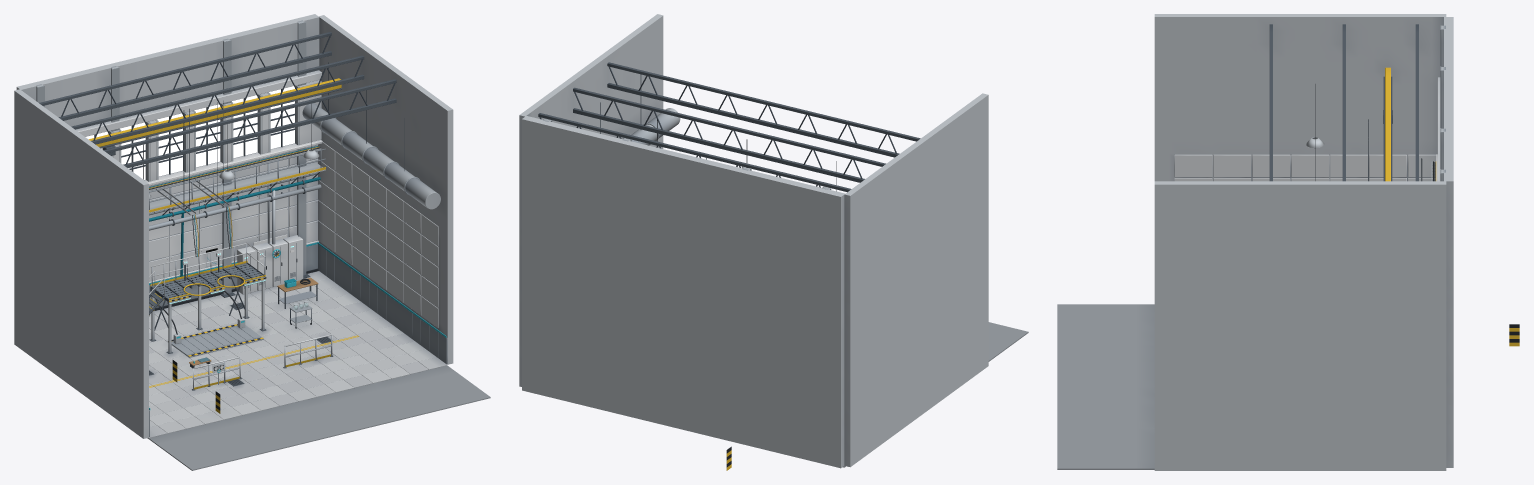
Rendered from vacuum-hall.glb.
The picture shows the model from 3 angles, left to right: view 1: azimuth 30°, elevation 25°; view 2: azimuth 150°, elevation 25°; view 3: azimuth 270°, elevation 25°; orthographic projection. The views are drawn at different scales.
Visible parts, largest first — view 1: set_wall_dk, set_wall, set_steel_dk, set_seam, set_floor_a, set_floor_b, set_floor_c, set_steel, set_galv, set_steel_lt, set_wains, set_win_glass (+9 smaller); view 2: set_wall_dk, set_steel_dk, set_seam, set_galv; view 3: set_wall_dk, set_seam, set_wall, set_steel_dk, set_hazard, set_steel_lt.
Part boxes in pixels (x1,y1,x2,y2): set_wall_dk: (14,14,453,438); set_wall: (75,70,438,328); set_steel_dk: (39,32,404,390); set_seam: (147,365,490,470); set_floor_a: (149,271,447,433); set_floor_b: (149,278,428,438); set_floor_c: (149,286,435,425); set_steel: (37,21,420,370); set_galv: (149,103,440,243); set_steel_lt: (36,20,321,384); set_wains: (149,244,447,436); set_win_glass: (85,86,294,179); set_wall_dk: (519,14,988,468); set_steel_dk: (538,62,920,192); set_seam: (843,322,1028,467); set_galv: (626,108,680,145); set_wall_dk: (1154,14,1453,470); set_seam: (1057,304,1154,469); set_wall: (1174,77,1440,181); set_steel_dk: (1269,24,1418,181); set_hazard: (1385,67,1519,346); set_steel_lt: (1306,25,1445,181).
Size of the model in its own units: 16.6 by 13.09 by 19.01.
39 materials, 4 textured.
